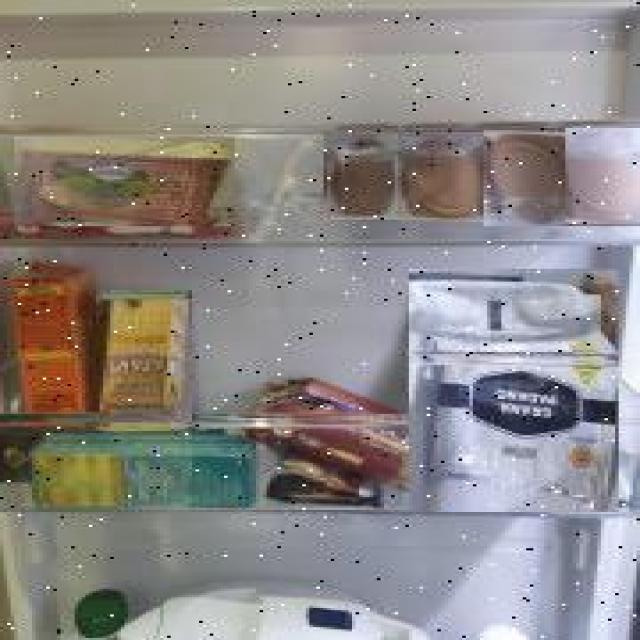butter: (16, 137, 236, 226)
egg: (398, 132, 491, 222), (483, 130, 569, 226), (565, 128, 640, 226), (324, 134, 406, 220)
grated_cheese: (409, 269, 619, 512)
heavy_cream: (100, 290, 192, 423)
